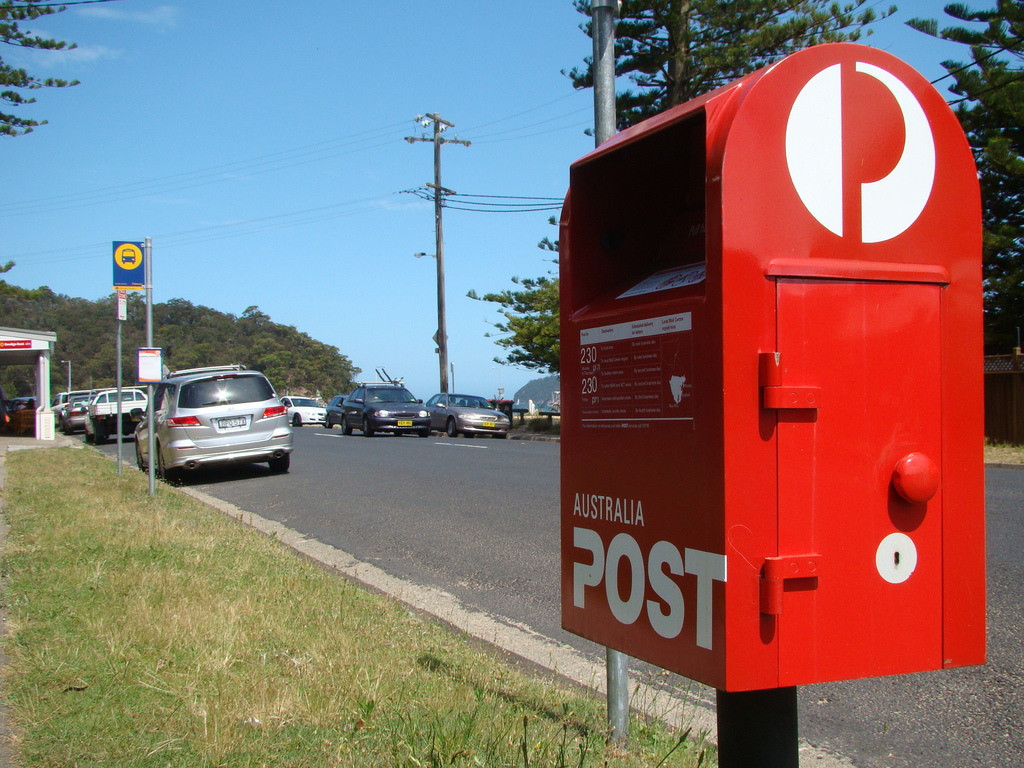bus_stop: (118, 243, 140, 269)
